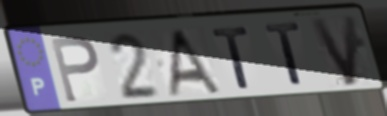2: (106, 30, 161, 102)
A: (164, 26, 225, 99)
P: (47, 34, 101, 105)
T: (208, 24, 253, 92), (262, 20, 306, 89)
V: (306, 12, 359, 89)
